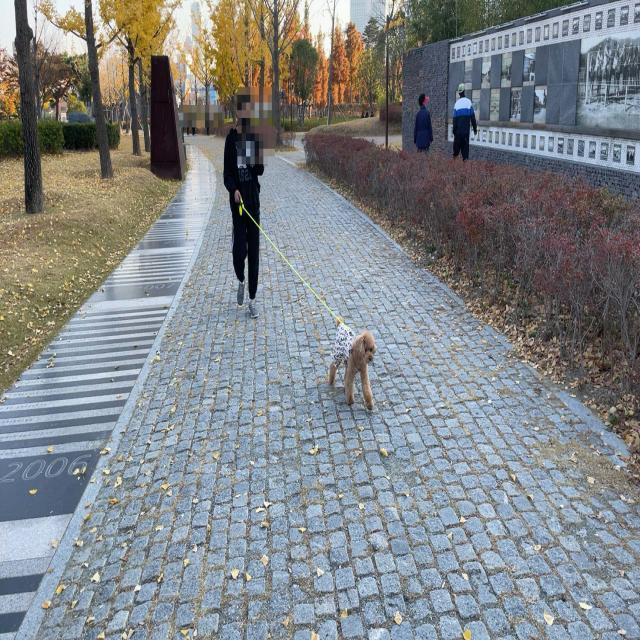Leashed_Dog: (248, 212, 379, 413)
